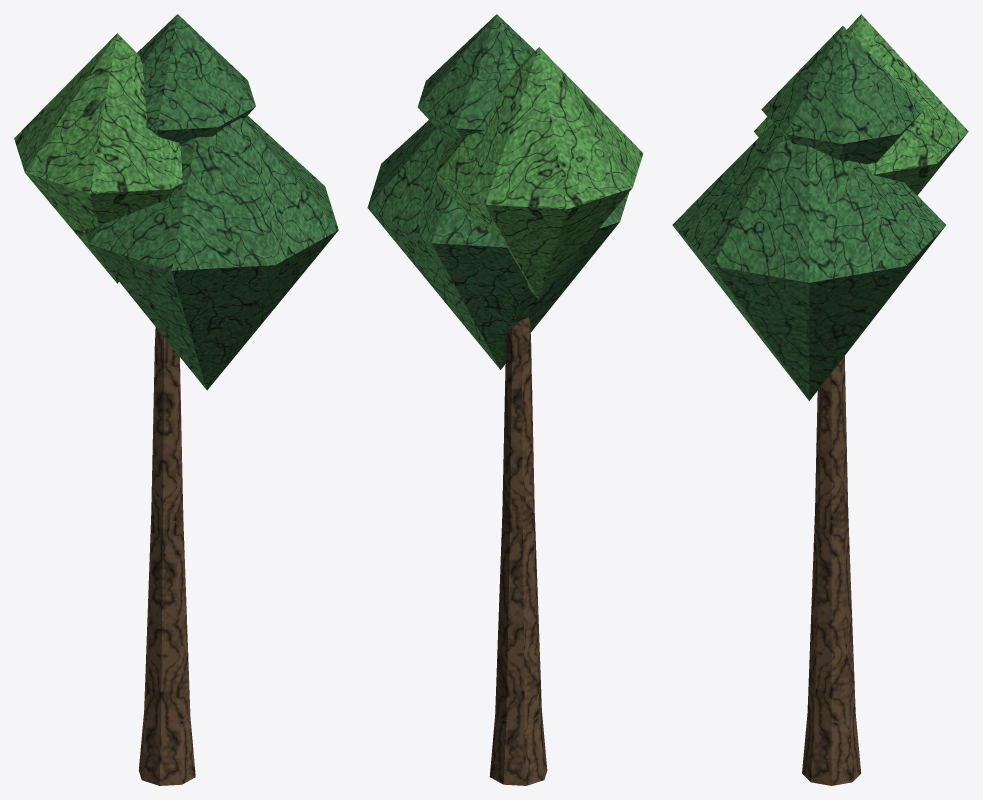
Rendered from village_tree.fbx.
The picture shows the model from 3 angles, left to right: view 1: azimuth 30°, elevation 25°; view 2: azimuth 150°, elevation 25°; view 3: azimuth 270°, elevation 25°; orthographic projection.
Parts seen in each view (by area): view 1: village_tree; view 2: village_tree; view 3: village_tree.
Part boxes in pixels (x1,y1,x2,y2): village_tree: [14, 14, 338, 785]; village_tree: [367, 14, 643, 785]; village_tree: [672, 14, 968, 785].
Size of the model in its own units: 172 by 450 by 160.
